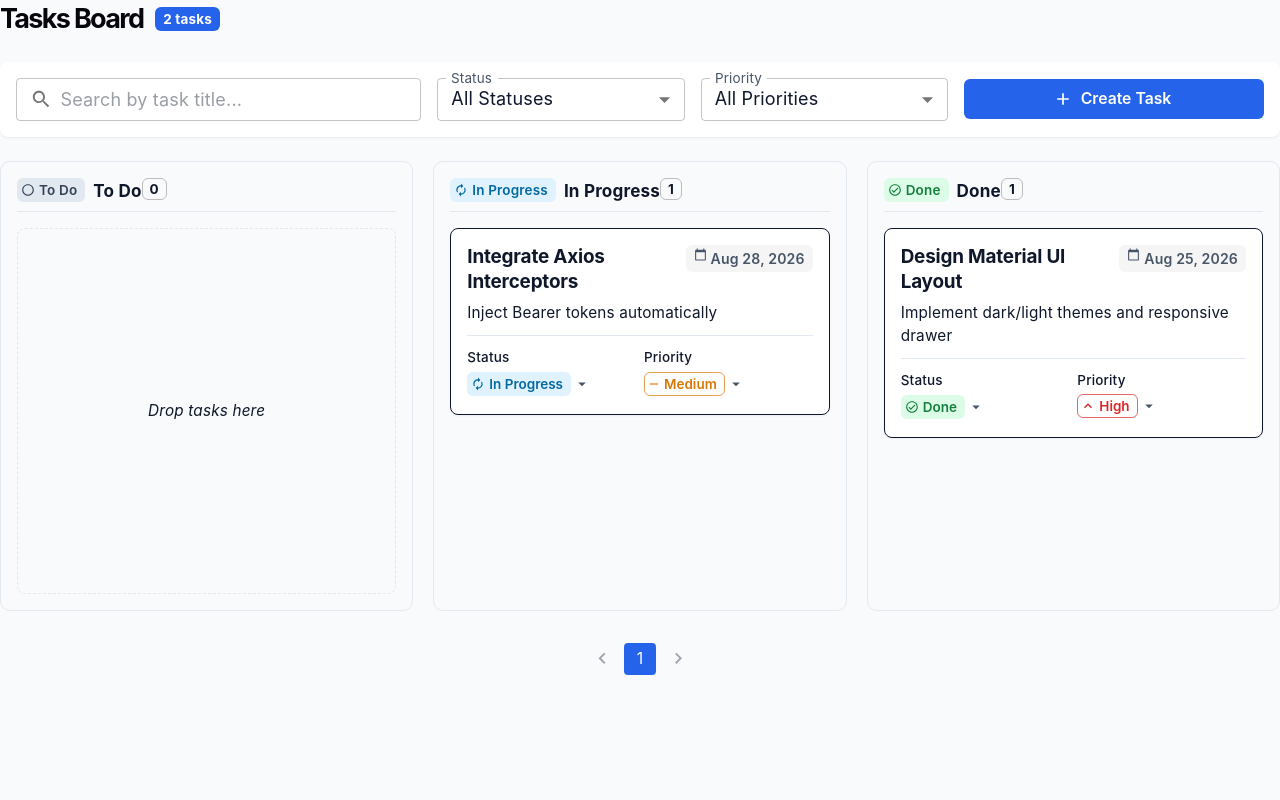
TasksPage Dashboard Component › delete task interaction: opens confirm dialog and deletes task
The image size is (1280, 800).
Note: Open details modal by clicking task title
Click the heading "Design Material UI Layout" at (983, 269), box left=901, top=245, right=1065, bottom=293
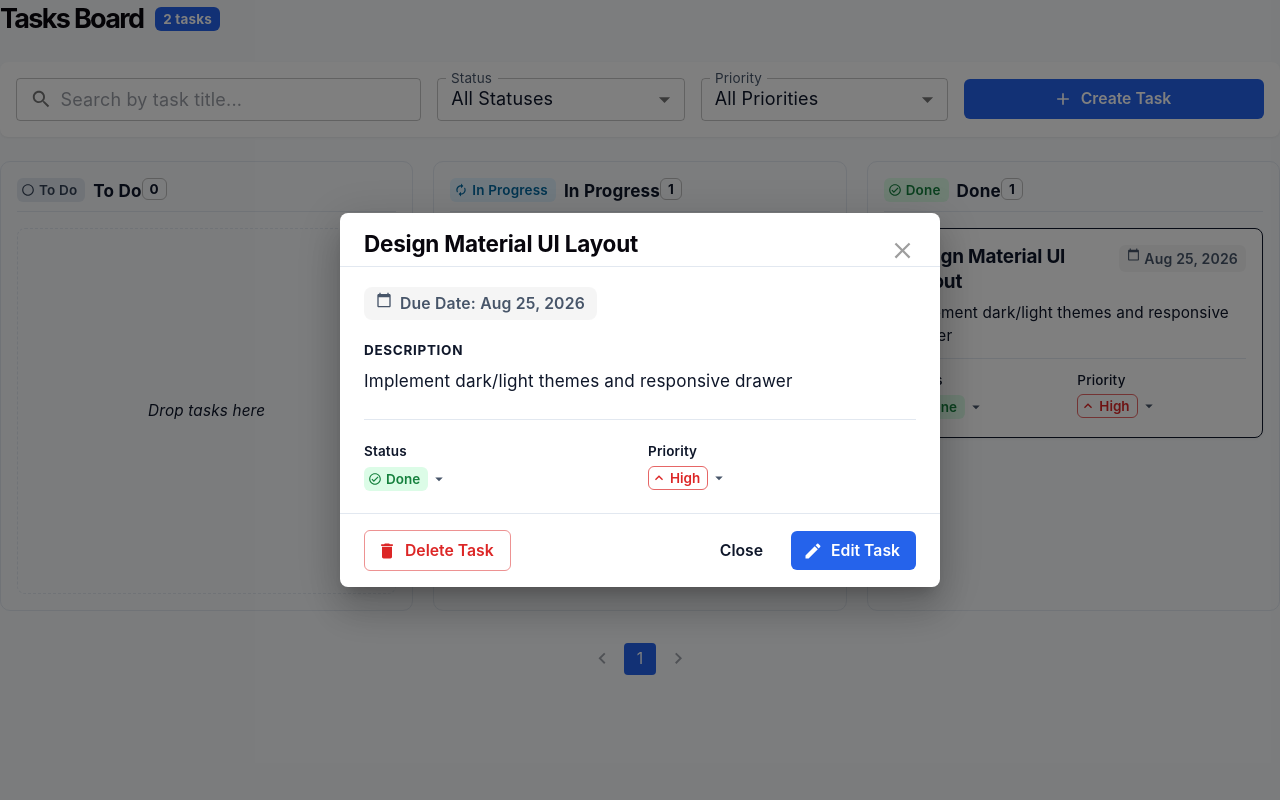
Note: Click Delete Task button inside details popup modal
Click the button "Delete Task" at (437, 551), box left=364, top=530, right=511, bottom=572
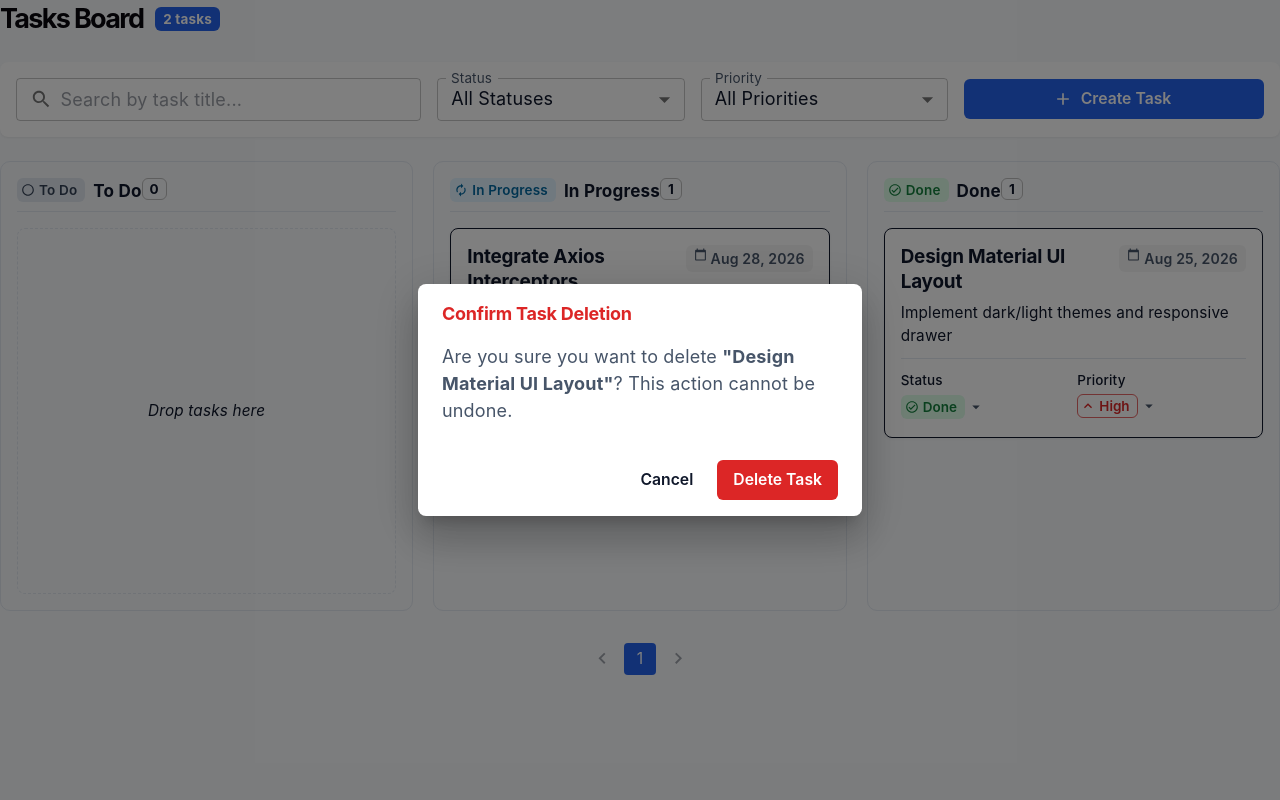
Expected: the heading "Confirm Task Deletion" is shown, left=442, top=303, right=632, bottom=324
Click the button "Delete Task" at (778, 480), box left=717, top=460, right=838, bottom=500
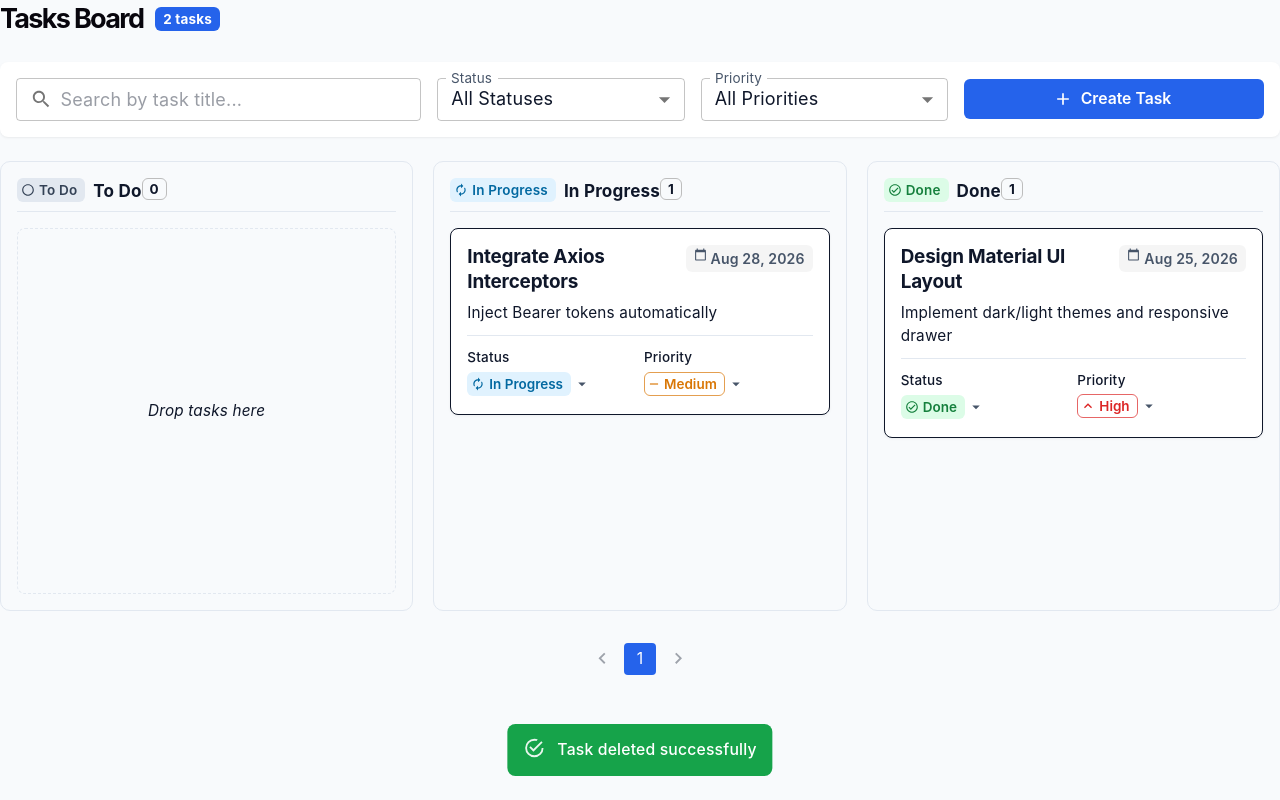
Expected: the text "Task deleted successfully" is shown, left=557, top=740, right=757, bottom=759
